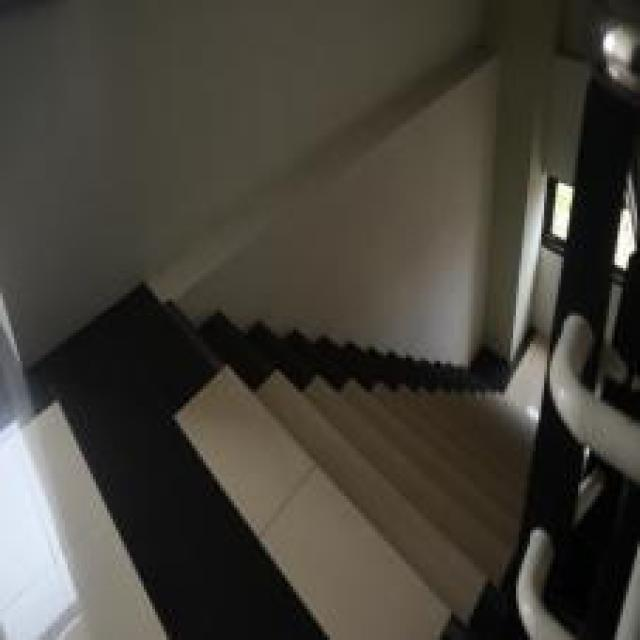downstair: (182, 354, 498, 639)
